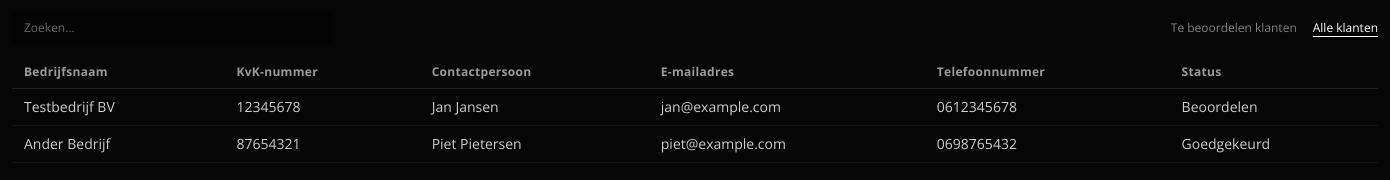
Test: KlantenSection › shows only the "Beoordelen" klant after clicking the "te beoordelen" quick filter link
Click the button with test id "data-table-quick-active".
click(1234, 28)  # box x1=1171 y1=20 x2=1297 y2=36
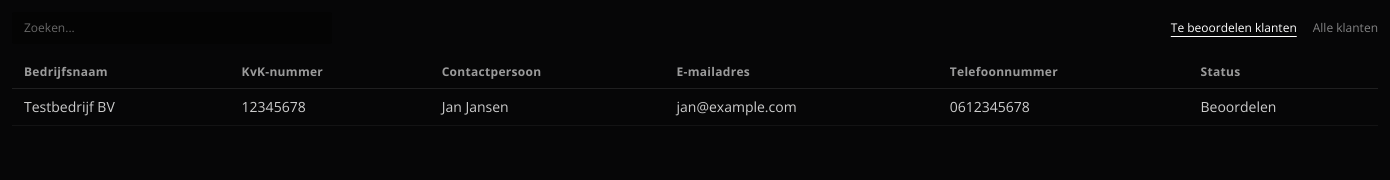
Expected: the row with test id "data-table-row-uid-1" is shown, x1=12 y1=88 x2=1378 y2=126
Expected: the row with test id "data-table-row-uid-2" is gone
